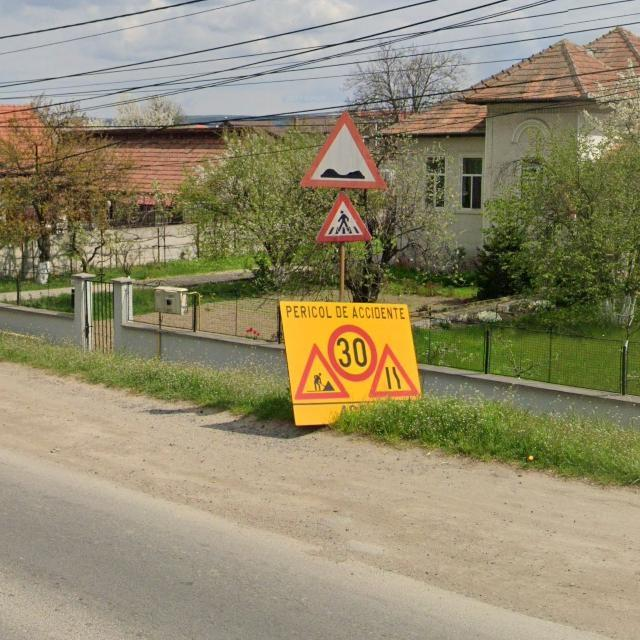forb_speed_over_40: (329, 323, 377, 382)
warn_crosswalk: (316, 191, 372, 243)
